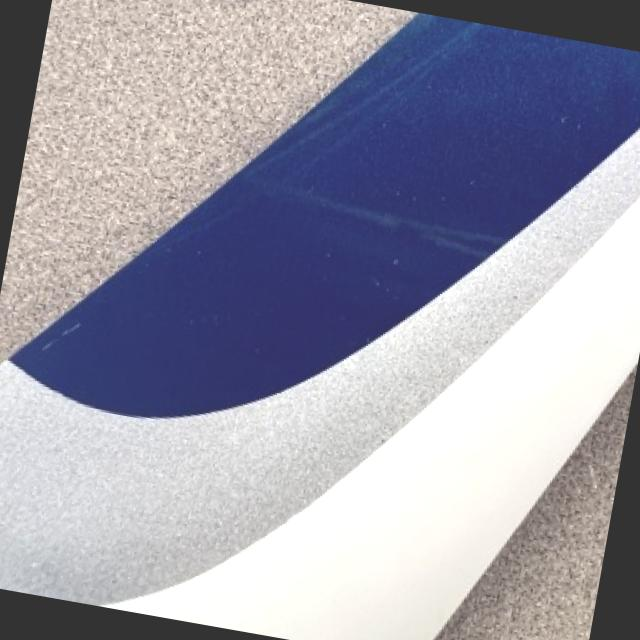healthy: (0, 130, 640, 603)
